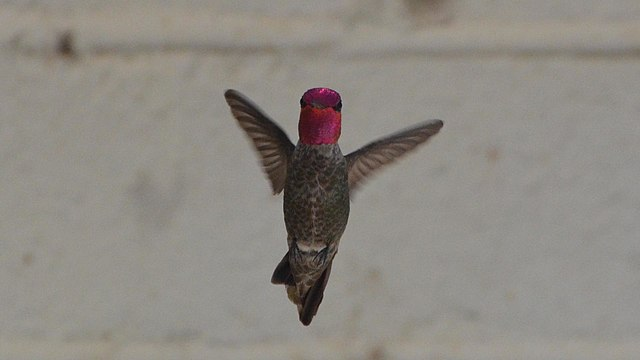calypte anna: (226, 87, 444, 327)
